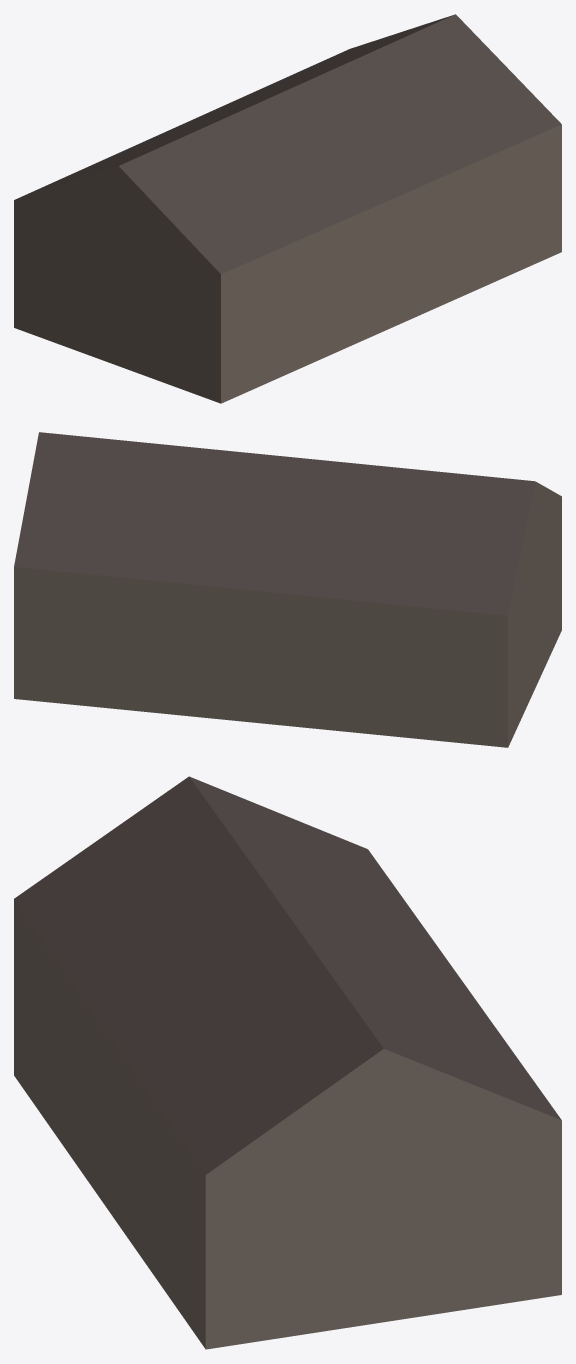
The picture shows the model from 3 angles, top to bottom: view 1: azimuth 30°, elevation 25°; view 2: azimuth 150°, elevation 25°; view 3: azimuth 270°, elevation 25°; orthographic projection. The views are drawn at different scales.
Parts seen in each view (by area): view 1: HP-w1516161927; view 2: HP-w1516161927; view 3: HP-w1516161927.
Part boxes in pixels (x1,y1,x2,y2): HP-w1516161927: (14, 14, 561, 403); HP-w1516161927: (14, 432, 561, 747); HP-w1516161927: (14, 776, 561, 1349).
Size of the model in its own units: 24.02 by 9.4 by 17.07.
